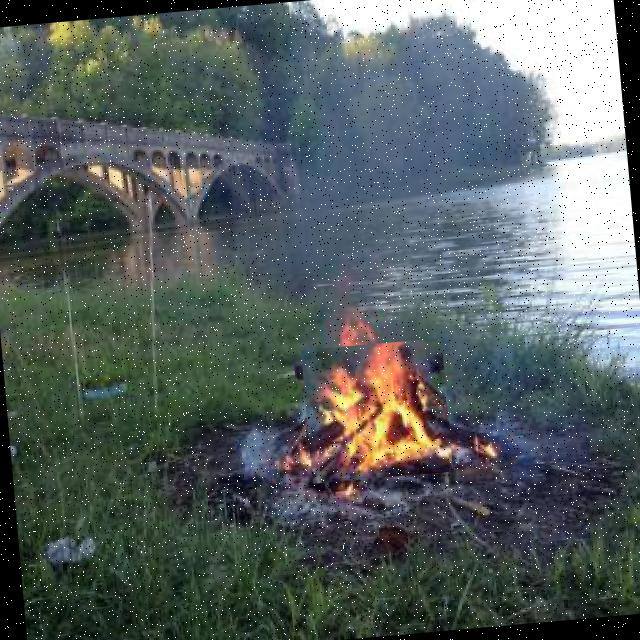fire: (300, 338, 452, 483)
